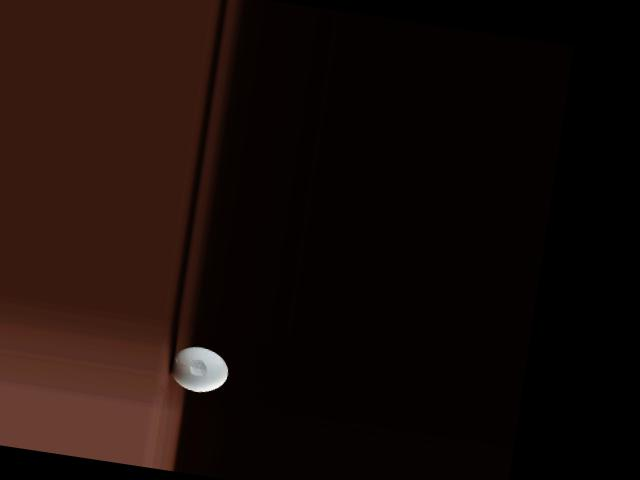egg: (167, 343, 231, 395)
